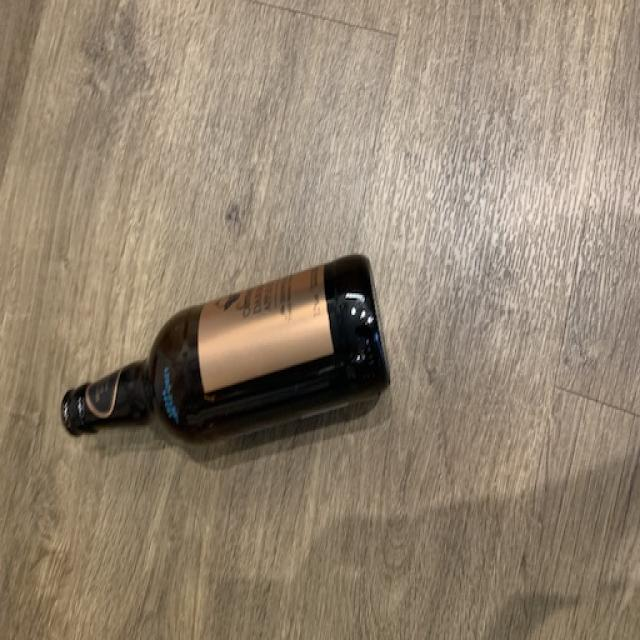litter: (55, 255, 395, 457)
